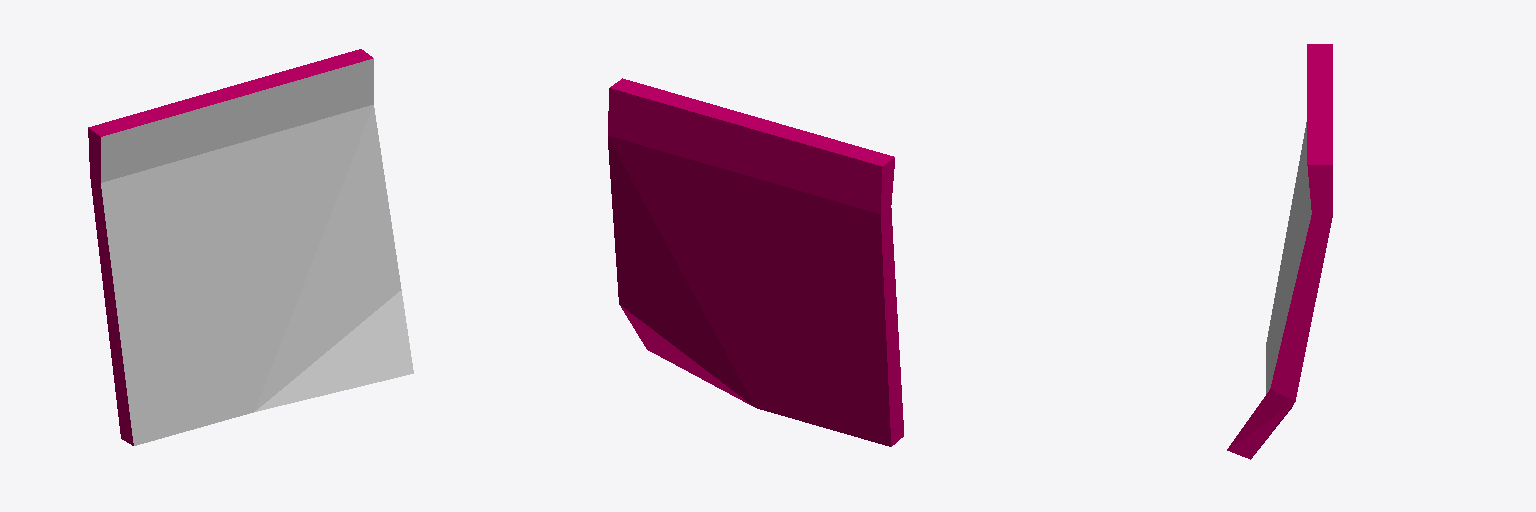
Rendered from post-it_taches.01.obj.
3 views of the same model, side by side, from view 1: azimuth 30°, elevation 25°; view 2: azimuth 150°, elevation 25°; view 3: azimuth 270°, elevation 25° (orthographic).
Parts seen in each view (by area): view 1: post-it_taches.01; view 2: post-it_taches.01; view 3: post-it_taches.01.
Boxes of the visible parts, box(x1,y1,x2,y2) form: post-it_taches.01: box(88, 49, 413, 445); post-it_taches.01: box(608, 78, 903, 446); post-it_taches.01: box(1227, 44, 1332, 459).
Bounding box in the file's own units: 0.1483 × 0.156 × 0.0485.